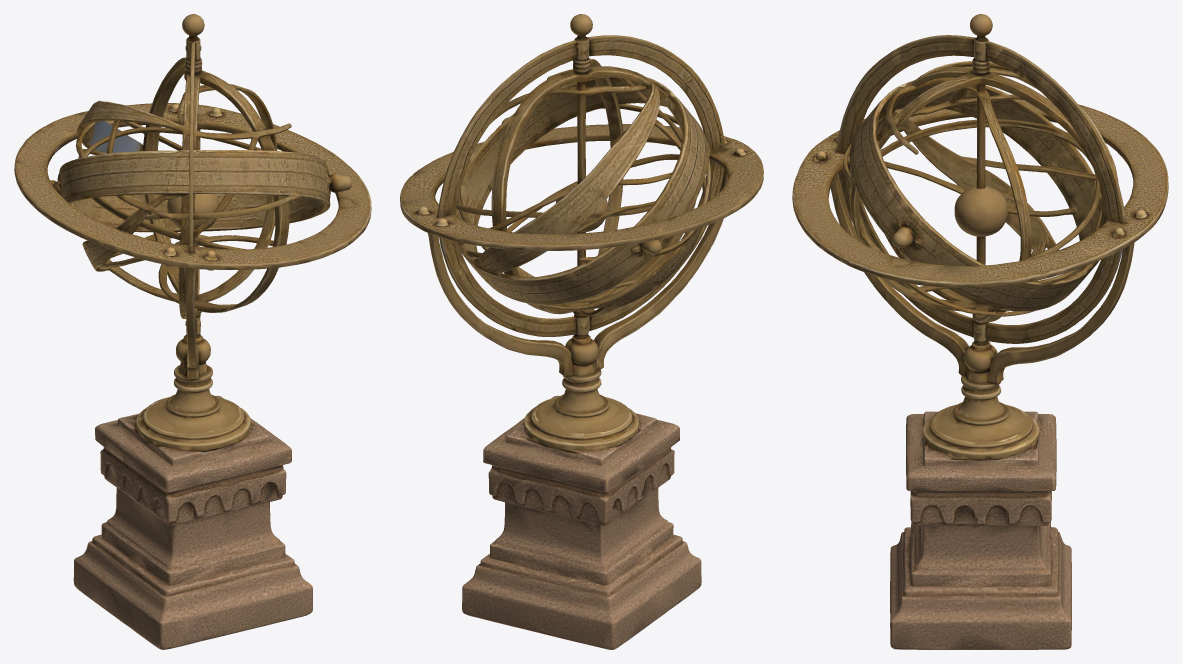
File: armillary.glb
The picture shows the model from 3 angles, left to right: view 1: azimuth 30°, elevation 25°; view 2: azimuth 150°, elevation 25°; view 3: azimuth 270°, elevation 25°; orthographic projection. The views are drawn at different scales.
Parts seen in each view (by area): view 1: tripo_node_514bb5f7-c6d0-4c96-950a-93560546e237; view 2: tripo_node_514bb5f7-c6d0-4c96-950a-93560546e237; view 3: tripo_node_514bb5f7-c6d0-4c96-950a-93560546e237.
Part boxes in pixels (x1=…): tripo_node_514bb5f7-c6d0-4c96-950a-93560546e237: x1=14, y1=14, x2=371, y2=649; tripo_node_514bb5f7-c6d0-4c96-950a-93560546e237: x1=400, y1=14, x2=763, y2=649; tripo_node_514bb5f7-c6d0-4c96-950a-93560546e237: x1=792, y1=14, x2=1168, y2=649.
Size of the model in its own units: 0.5528 by 1 by 0.5701.
1 material, 1 textured.
